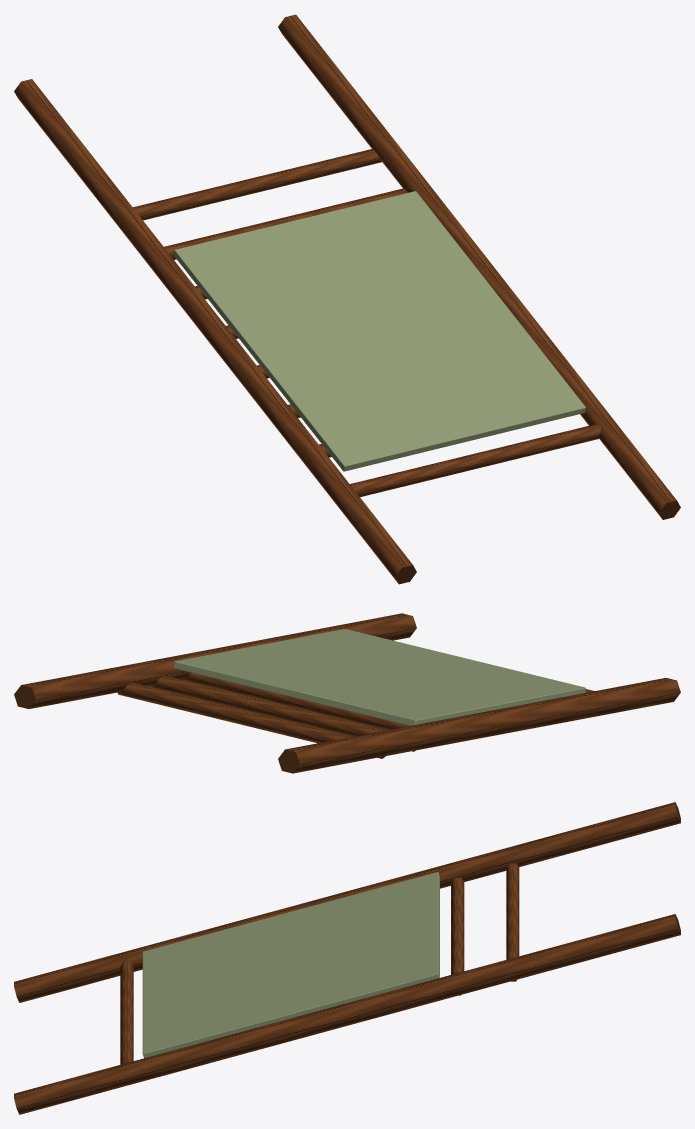
File: creature-husbandry-and-transport-drag-travois-1f0fe285__24027.glb
3 views of the same model, one above another, from view 1: azimuth 30°, elevation 25°; view 2: azimuth 150°, elevation 25°; view 3: azimuth 270°, elevation 25° (orthographic). The views are drawn at different scales.
Parts seen in each view (by area): view 1: drag-travois; view 2: drag-travois; view 3: drag-travois.
Part boxes in pixels (x1,y1,x2,y2): drag-travois: (14, 14, 680, 584); drag-travois: (14, 613, 680, 773); drag-travois: (14, 802, 680, 1114).
Size of the model in its own units: 1.3 by 0.9831 by 3.02.
Materials: 2 (1 with a texture image).
